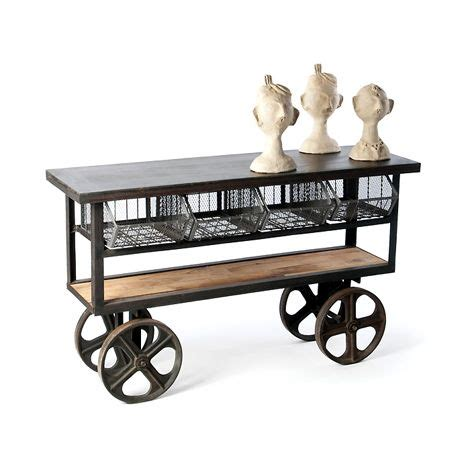Carts: (45, 142, 421, 403)
